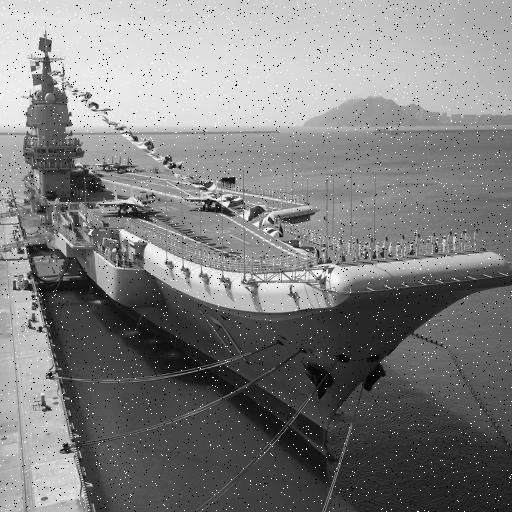Portanaves: (17, 21, 512, 459)
